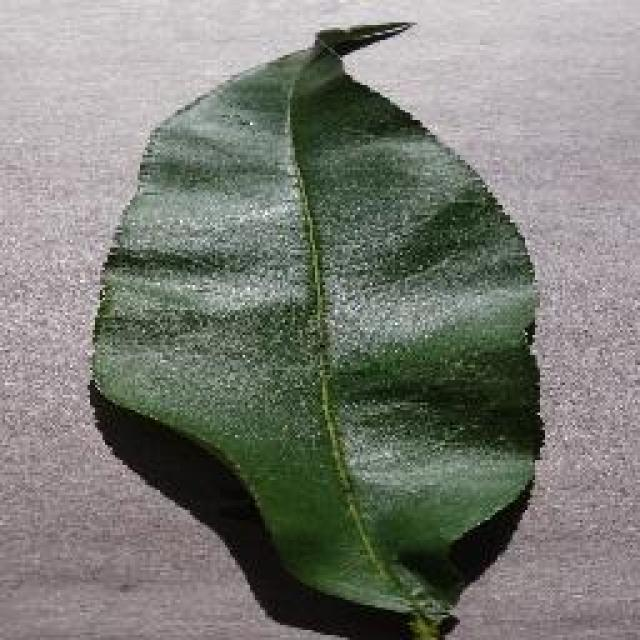Pea_healthy: (76, 94, 565, 532)
